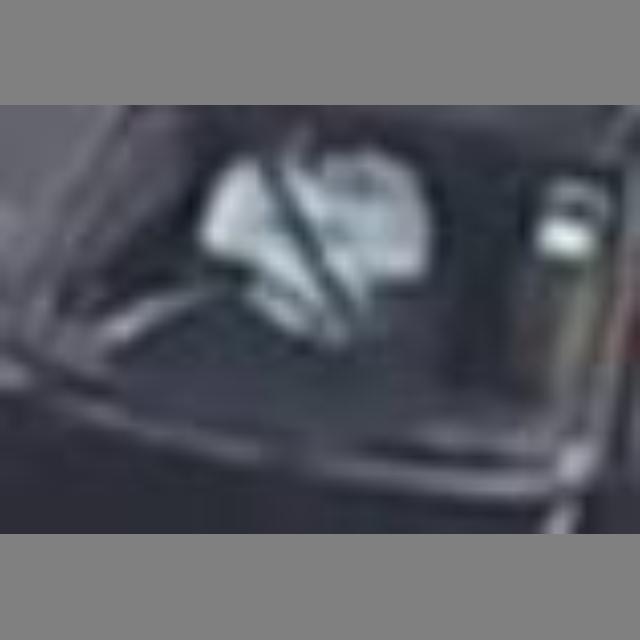pakai: (162, 121, 421, 405)
